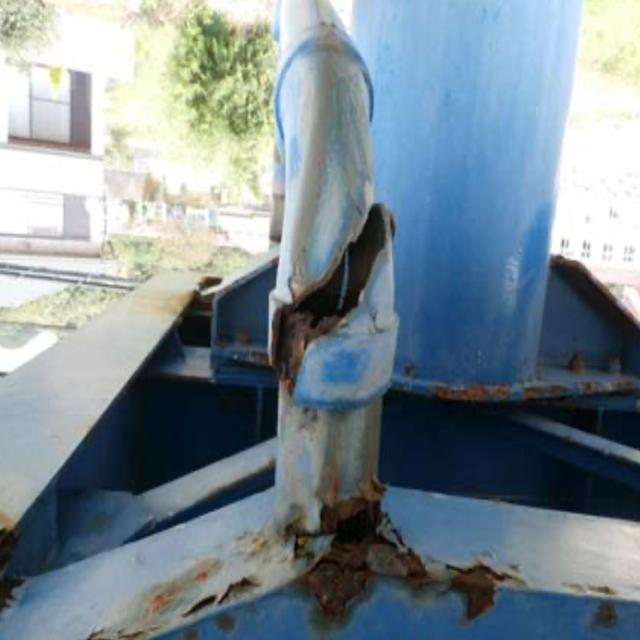corrosion: (247, 174, 584, 623)
